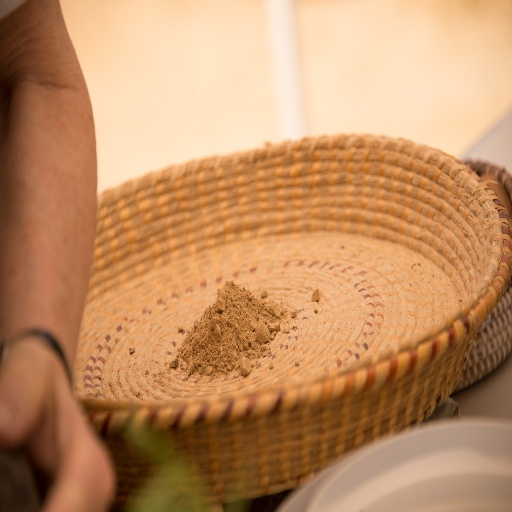hand: (0, 339, 114, 511)
